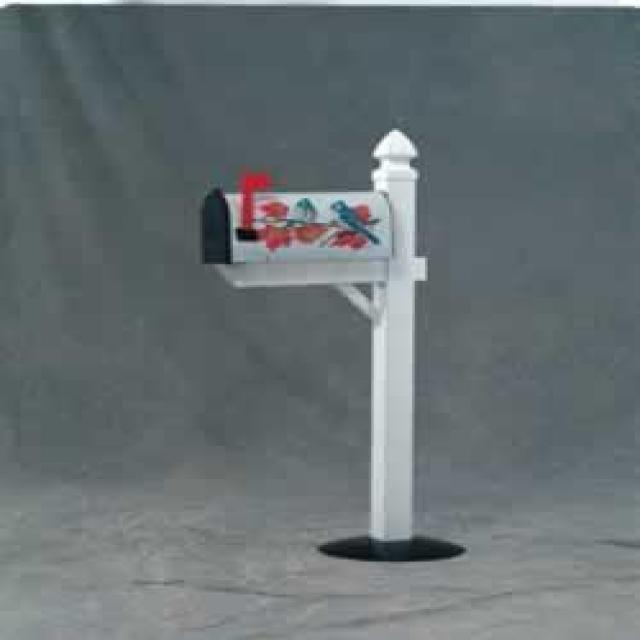Post Box: (200, 172, 405, 268)
